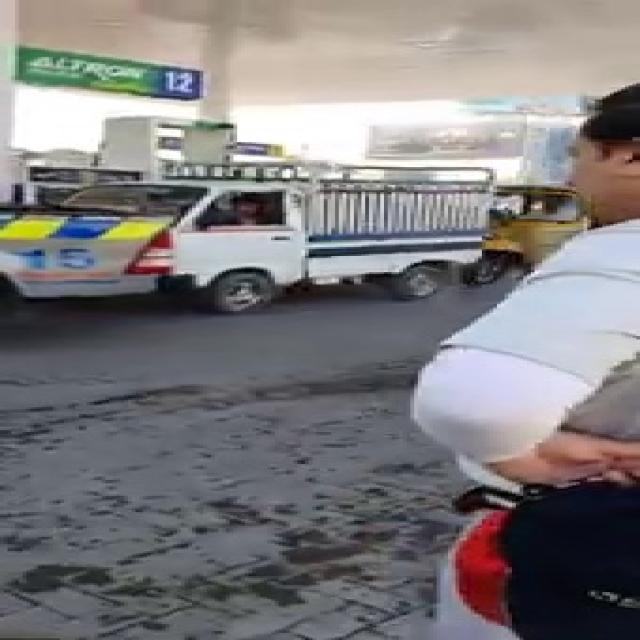police: (0, 202, 176, 324)
